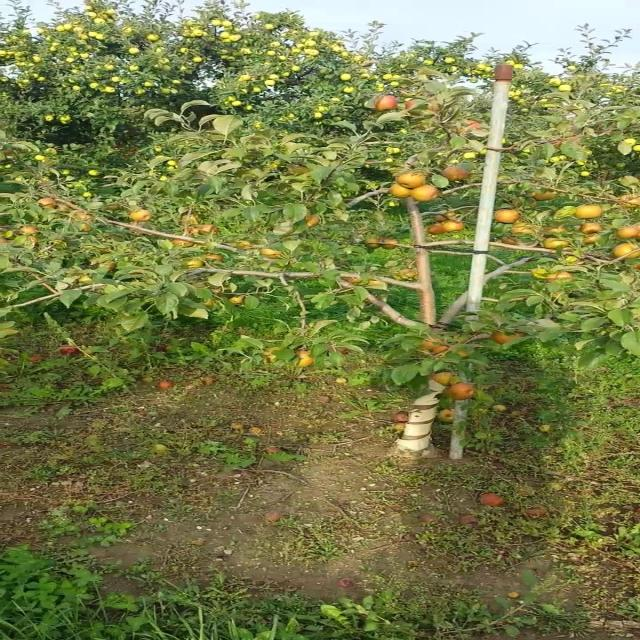apple: (397, 172, 427, 188), (447, 384, 476, 399), (490, 332, 523, 344), (412, 188, 441, 201), (575, 208, 604, 220), (376, 96, 398, 111), (390, 184, 412, 199), (618, 244, 638, 260), (547, 272, 574, 283), (298, 352, 316, 368), (447, 168, 469, 181), (433, 372, 455, 385), (497, 212, 519, 224), (262, 248, 284, 260), (618, 228, 639, 240), (582, 224, 604, 235), (198, 224, 220, 235), (618, 196, 638, 208), (433, 344, 452, 355), (340, 276, 363, 285), (447, 220, 464, 232), (134, 212, 151, 224), (532, 268, 549, 280), (547, 240, 569, 249), (532, 192, 556, 200), (433, 224, 448, 236), (305, 216, 320, 228), (184, 260, 206, 268), (511, 228, 533, 236), (440, 212, 457, 222), (99, 264, 119, 272), (547, 228, 569, 235), (582, 236, 599, 245), (177, 240, 196, 248), (383, 240, 398, 250), (440, 212, 455, 222), (404, 100, 420, 109), (333, 348, 350, 356), (184, 228, 201, 236), (369, 280, 386, 288), (506, 236, 519, 246), (42, 200, 57, 208), (77, 224, 92, 232), (426, 340, 441, 348), (77, 276, 92, 284), (404, 272, 418, 280), (369, 240, 382, 248), (234, 296, 247, 304), (22, 228, 36, 235), (205, 256, 226, 260), (468, 124, 484, 129), (205, 300, 215, 308), (241, 244, 254, 249), (77, 216, 92, 220), (461, 352, 469, 357)
